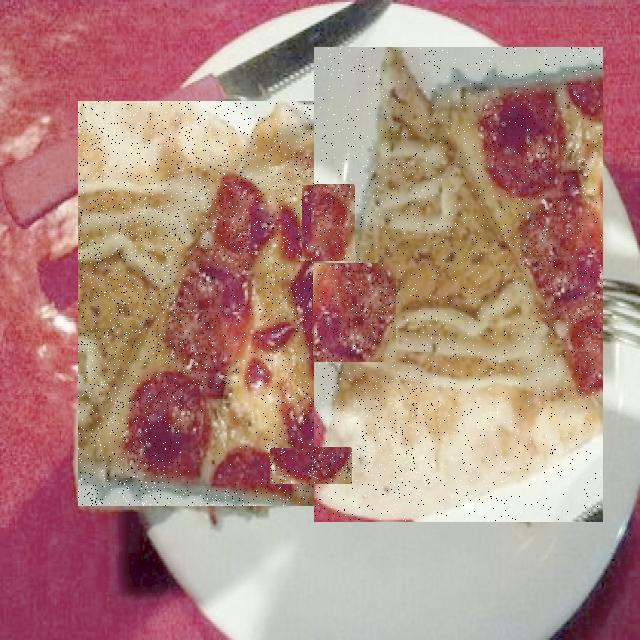Pepperoni: (313, 264, 396, 362), (183, 388, 261, 489), (184, 250, 260, 353), (356, 375, 435, 473), (302, 185, 355, 261), (270, 448, 352, 484)
Pizza: (78, 101, 484, 506), (315, 48, 602, 521)
